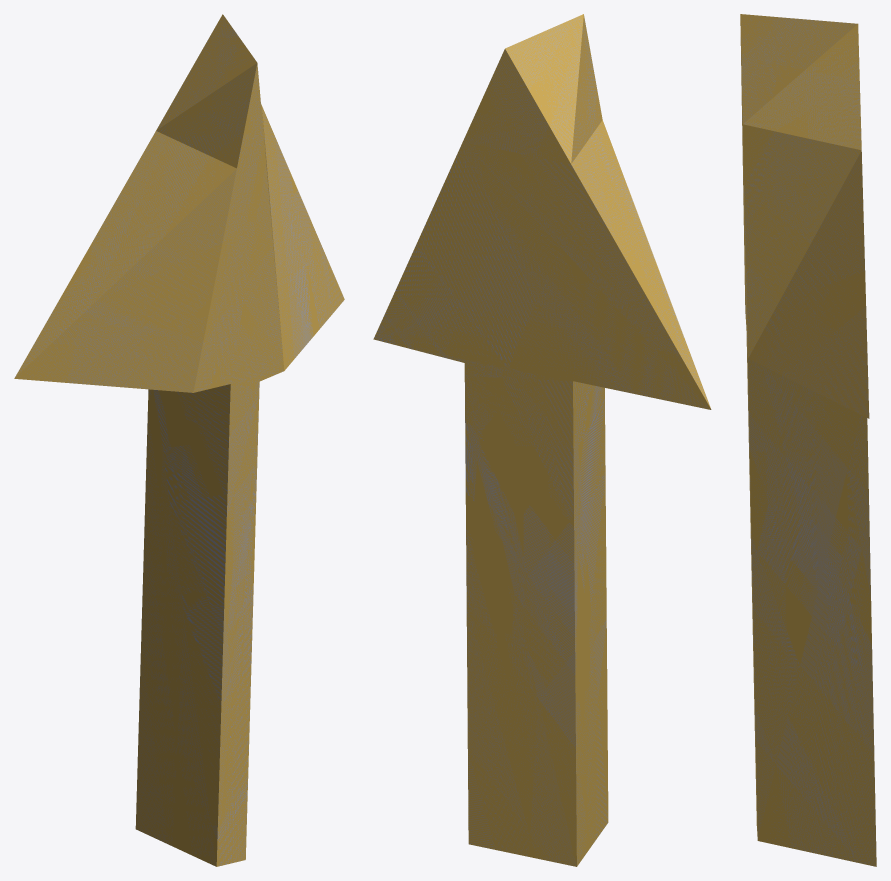
The model's file is handoftime.fbx.
The picture shows the model from 3 angles, left to right: view 1: azimuth 30°, elevation 25°; view 2: azimuth 150°, elevation 25°; view 3: azimuth 270°, elevation 25°; orthographic projection. The views are drawn at different scales.
Parts seen in each view (by area): view 1: Model; view 2: Model; view 3: Model.
Boxes of the visible parts, left/top/right/bottom form: Model: left=14, top=14, right=344, bottom=866; Model: left=373, top=14, right=711, bottom=866; Model: left=740, top=14, right=876, bottom=866.
Size of the model in its own units: 0.3158 by 0.7223 by 0.1076.
